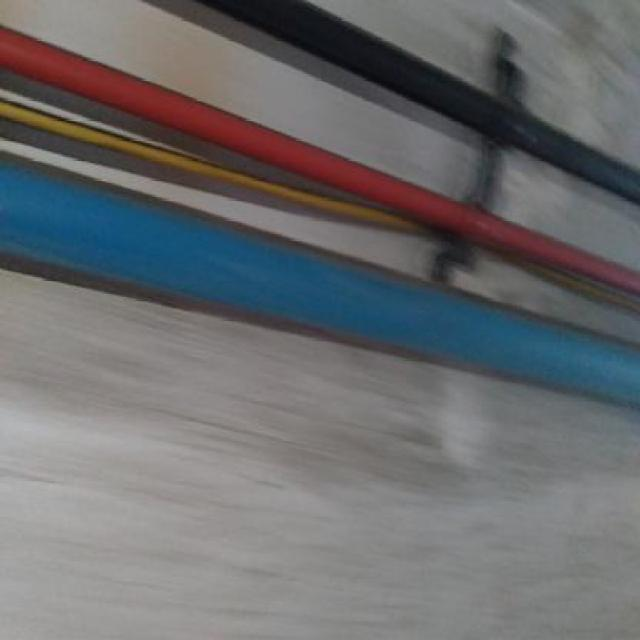gas: (4, 25, 640, 294), (2, 157, 640, 408), (210, 0, 640, 210)
